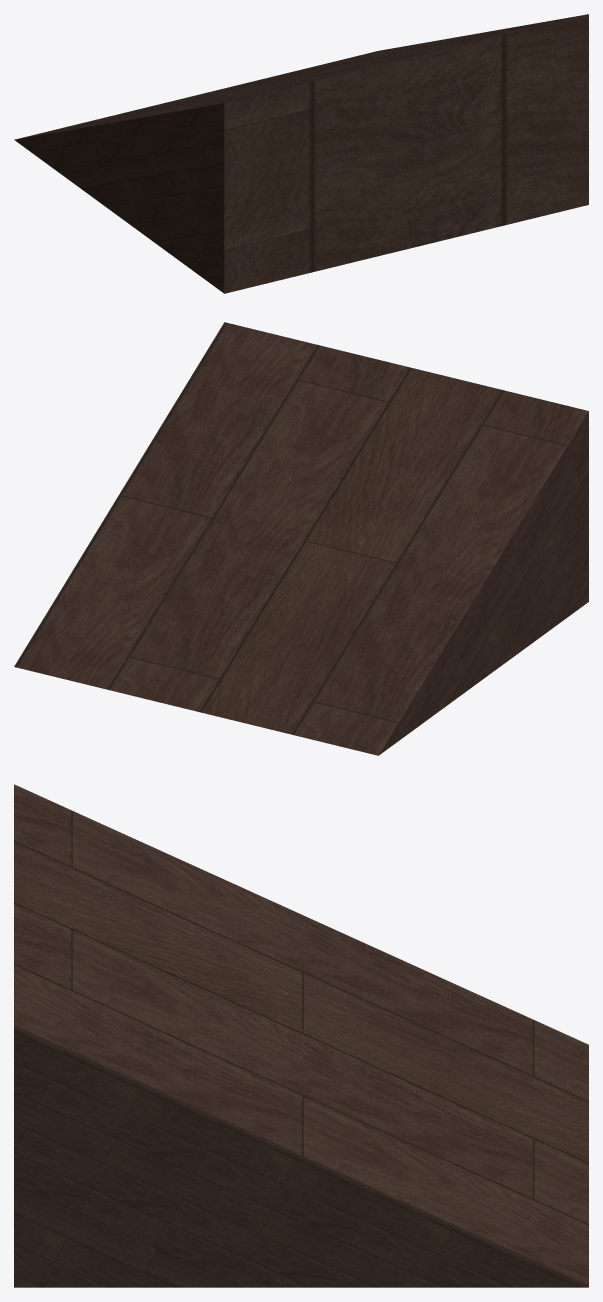
The model's file is Beam Set.fbx.
3 views of the same model, one above another, from view 1: azimuth 30°, elevation 25°; view 2: azimuth 150°, elevation 25°; view 3: azimuth 270°, elevation 25° (orthographic). The views are drawn at different scales.
Visible parts, largest first — view 1: Beam; view 2: Beam; view 3: Beam.
Boxes of the visible parts, x1,y1,x2,y2 form: Beam: (14,14,588,293); Beam: (14,322,588,755); Beam: (14,784,588,1287).
Bounding box in the file's own units: 100 × 50 × 100.
